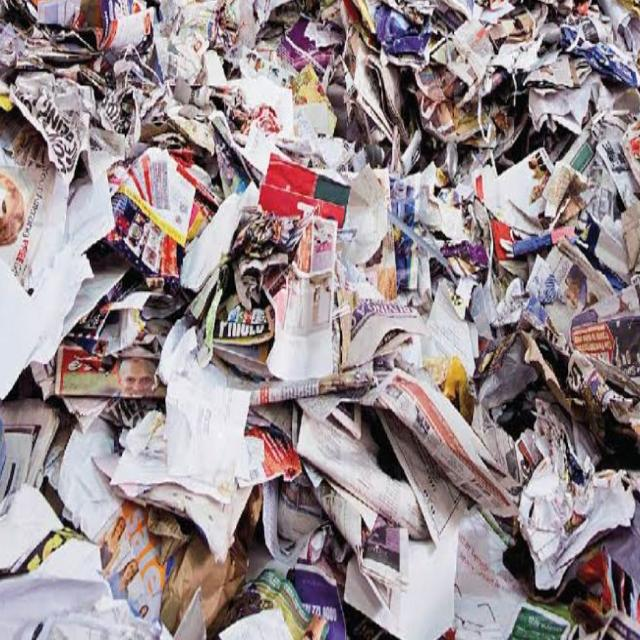Kertas: (84, 52, 604, 561)
